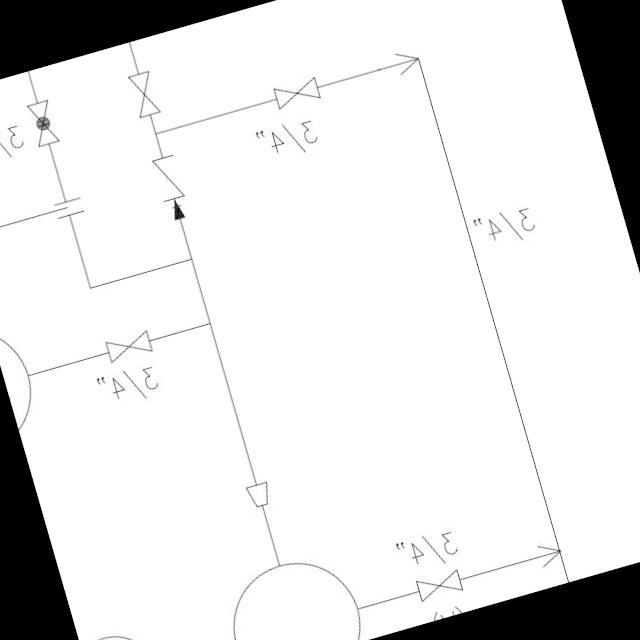BV2: (20, 87, 66, 155)
GV: (98, 321, 160, 368), (120, 61, 166, 124), (408, 562, 468, 606), (270, 73, 324, 114)
SP: (238, 472, 279, 514)
